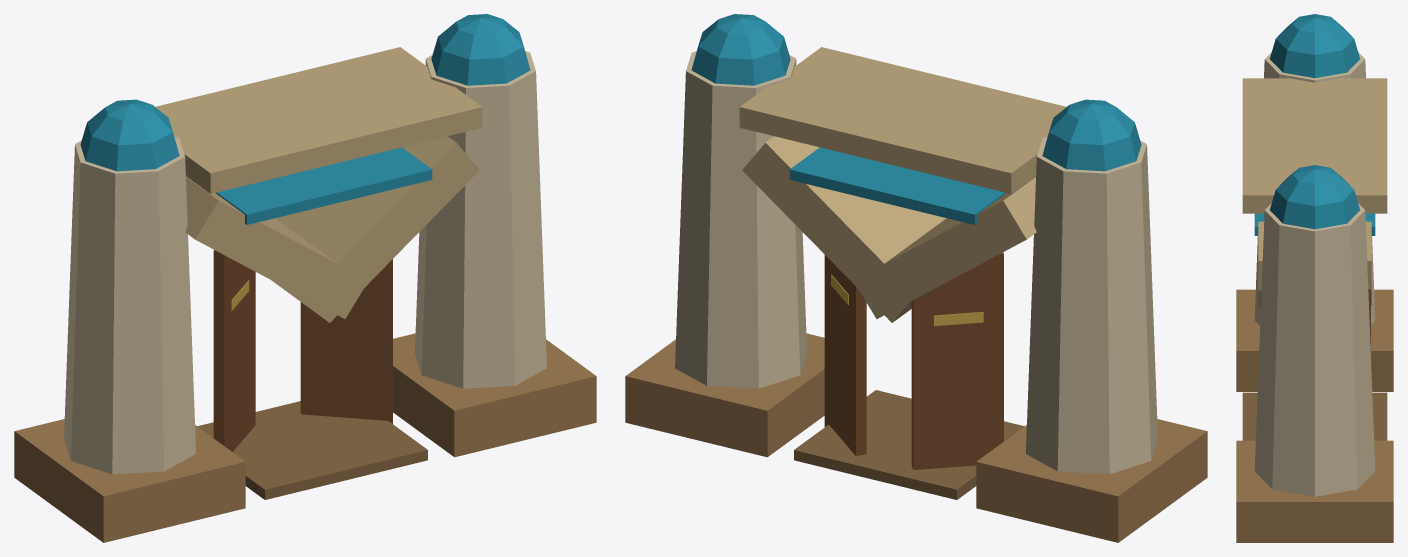
Rendered from middle_eastern-gate.glb.
3 views of the same model, side by side, from view 1: azimuth 30°, elevation 25°; view 2: azimuth 150°, elevation 25°; view 3: azimuth 270°, elevation 25° (orthographic). The views are drawn at different scales.
Parts seen in each view (by area): view 1: body; view 2: body; view 3: body.
Part boxes in pixels (x1=…): body: x1=14, y1=14, x2=596, y2=542; body: x1=625, y1=14, x2=1207, y2=542; body: x1=1236, y1=14, x2=1393, y2=542.
Size of the model in its own units: 3.99 by 3.01 by 1.25.
